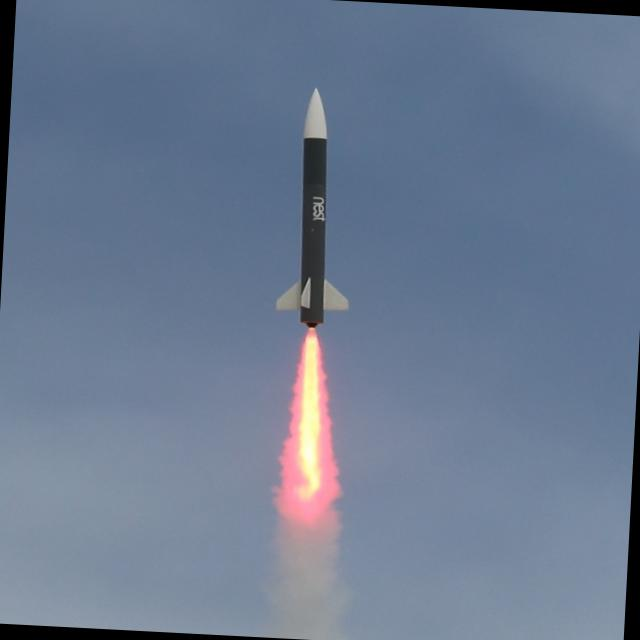rocket: (273, 89, 352, 499)
